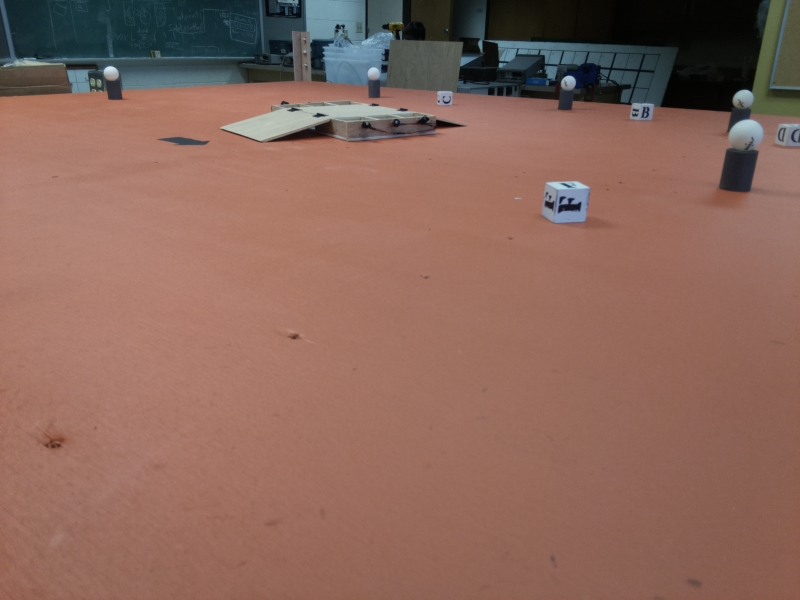blockB: (629, 100, 658, 126)
blockC: (437, 88, 456, 109)
blockF: (529, 177, 597, 231)
corner: (290, 29, 315, 83)
obstacle: (716, 119, 764, 183), (557, 74, 580, 114), (103, 65, 124, 103), (365, 65, 383, 98)
side: (344, 116, 434, 144)
slope: (223, 110, 333, 143)
start: (163, 128, 213, 153)
